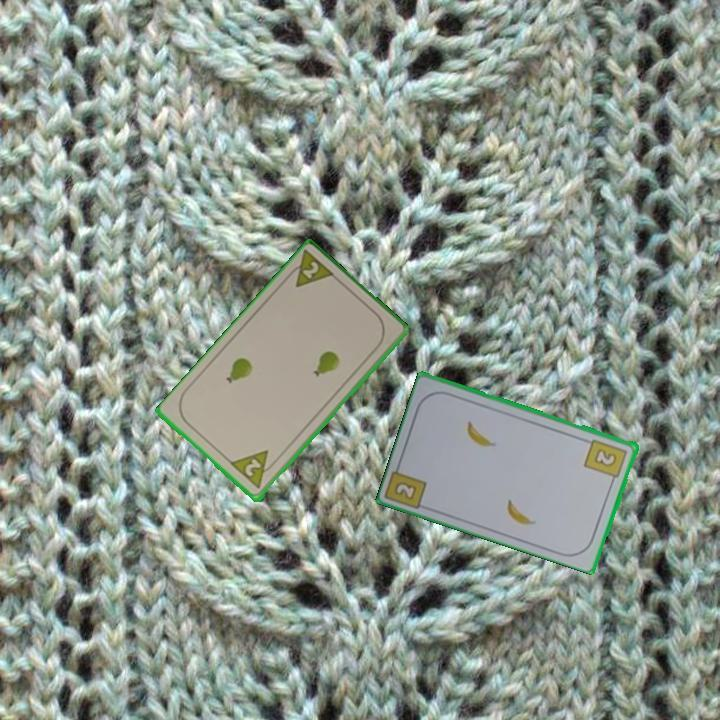2b: (581, 436, 630, 486), (393, 480, 418, 501)
2p: (282, 247, 339, 291), (241, 455, 264, 480)
